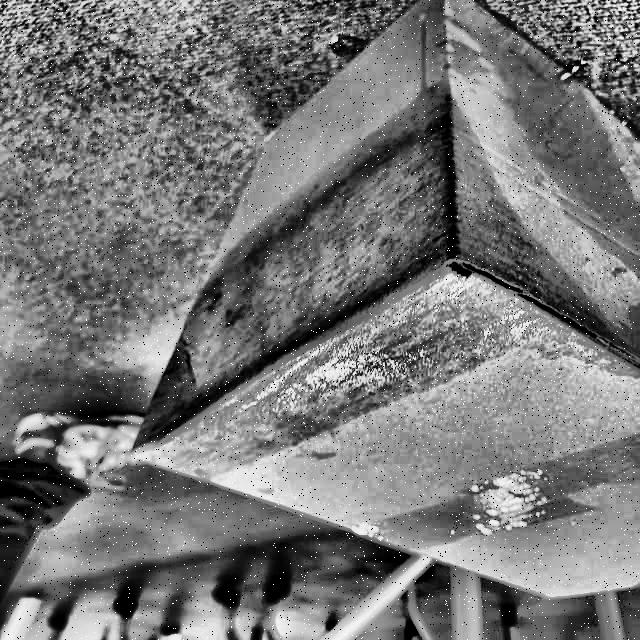box: (120, 1, 640, 607)
wet: (167, 85, 565, 484)
